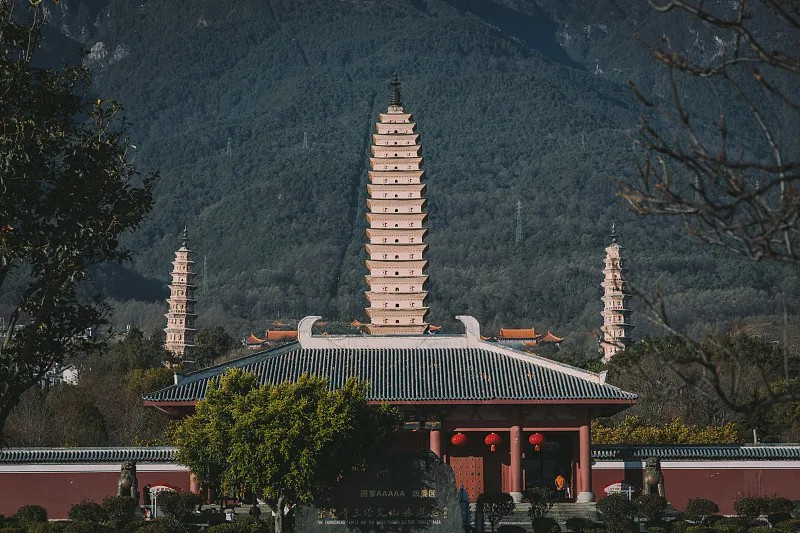ThreePagoda: (365, 72, 430, 337)
